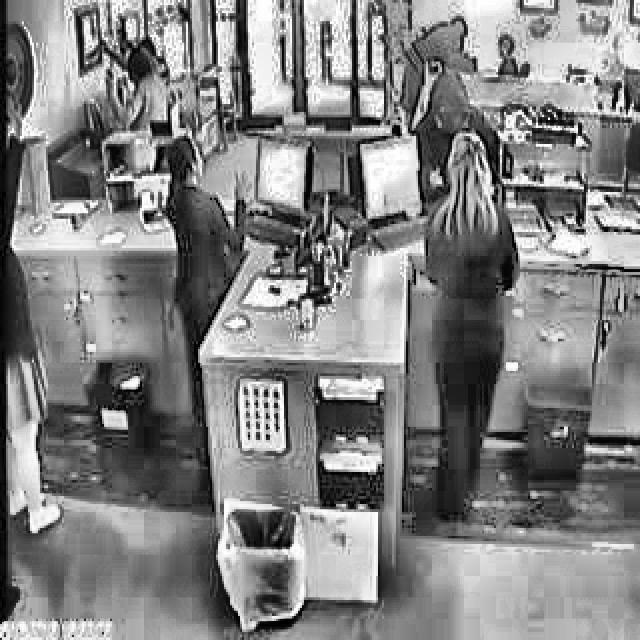Weapon: (433, 133, 522, 568), (156, 113, 228, 497), (372, 18, 518, 206), (78, 38, 202, 218)
